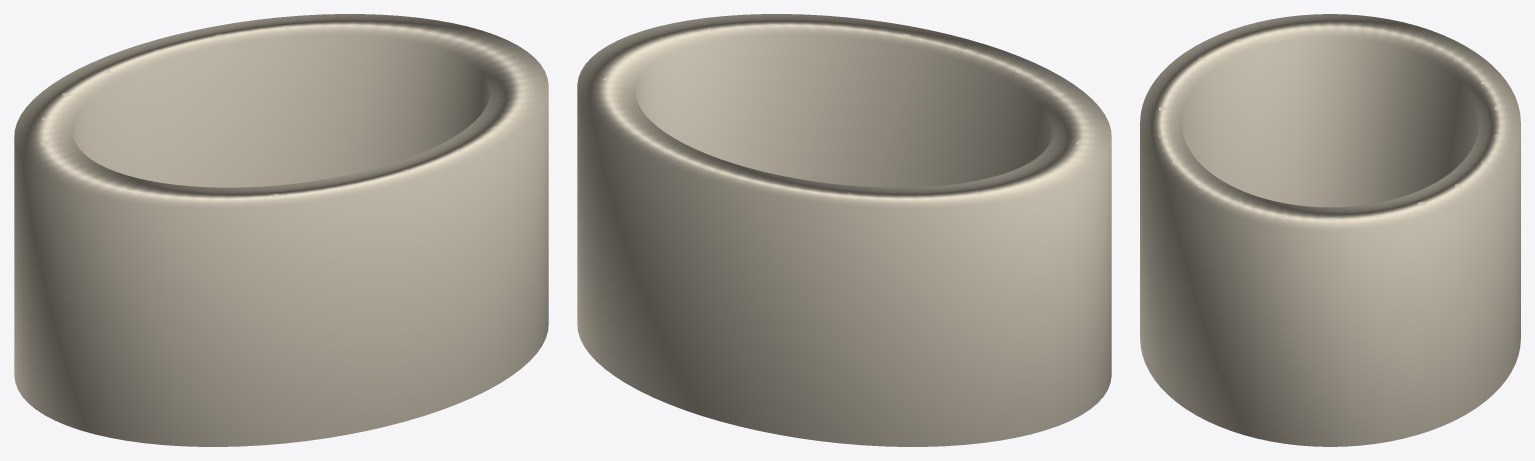
File: colosseum.glb
3 views of the same model, side by side, from view 1: azimuth 30°, elevation 25°; view 2: azimuth 150°, elevation 25°; view 3: azimuth 270°, elevation 25° (orthographic). The views are drawn at different scales.
Bounding box in the file's own units: 8.64 × 4 × 6.4.
